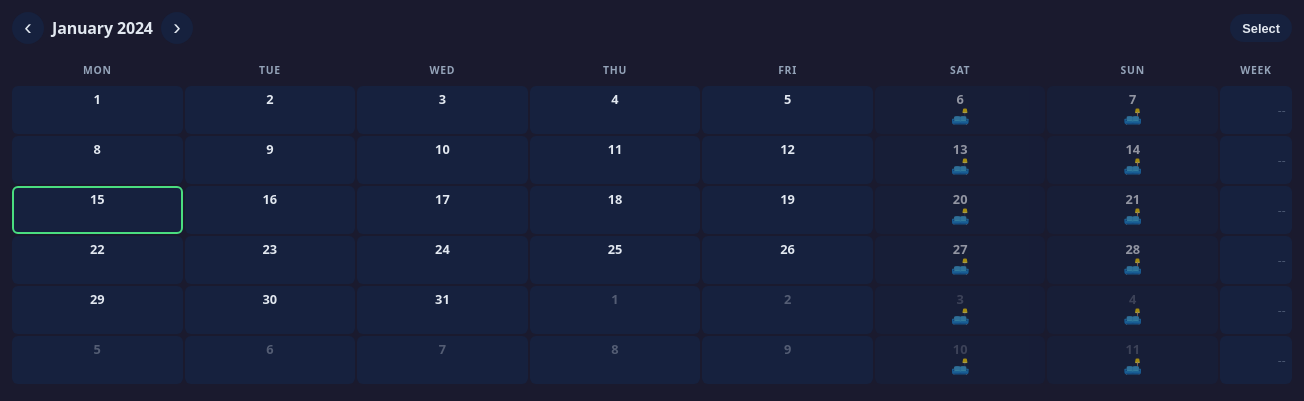
Scenario: CalendarView › handles a left swipe to advance and a right swipe to go back a month
Press the mouse on the element with class "cal-grid" at (652, 222), box [12,60,1292,384]
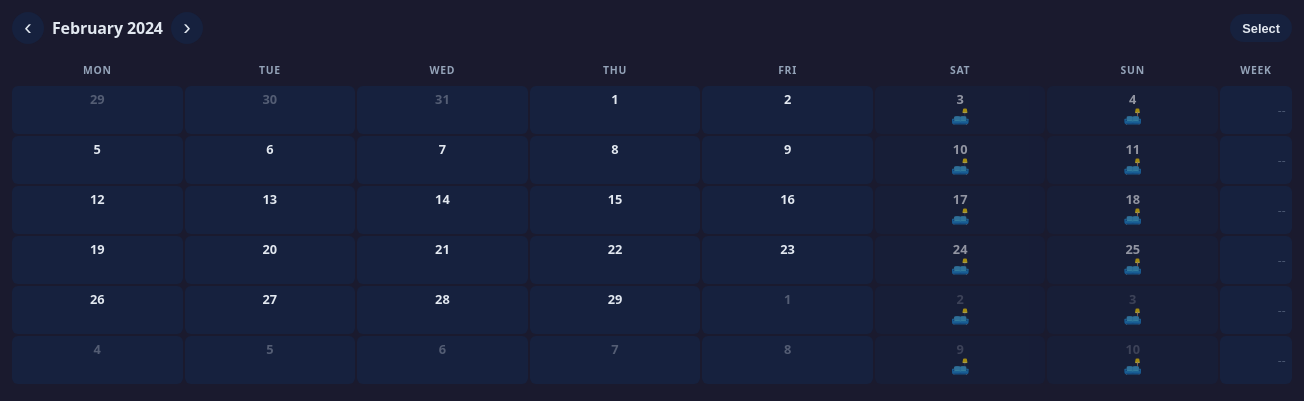
Expected: the text "February 2024" is shown, [52,17,163,39]
Press the mouse on the element with class "cal-grid" at (652, 222), box [12,60,1292,384]
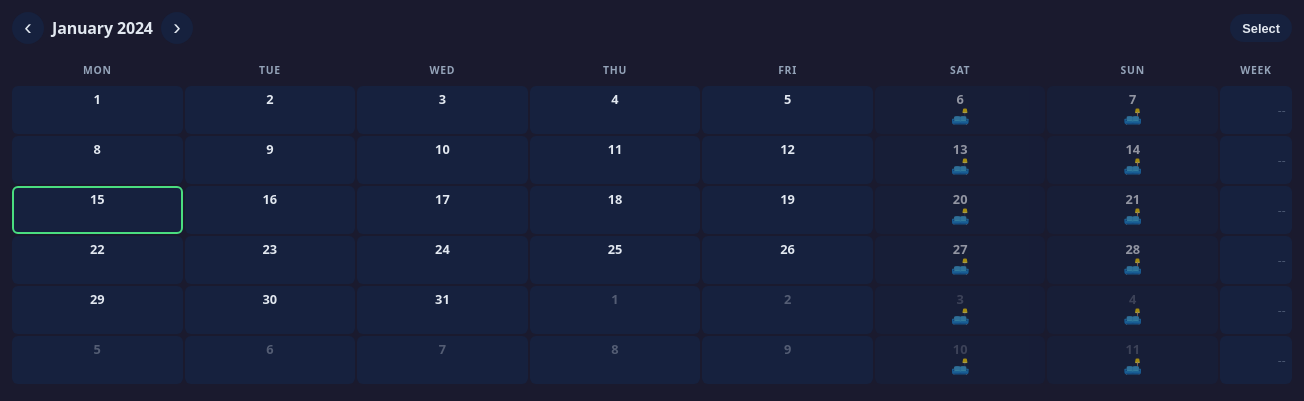
Expected: the text "January 2024" is shown, [52,17,153,39]
